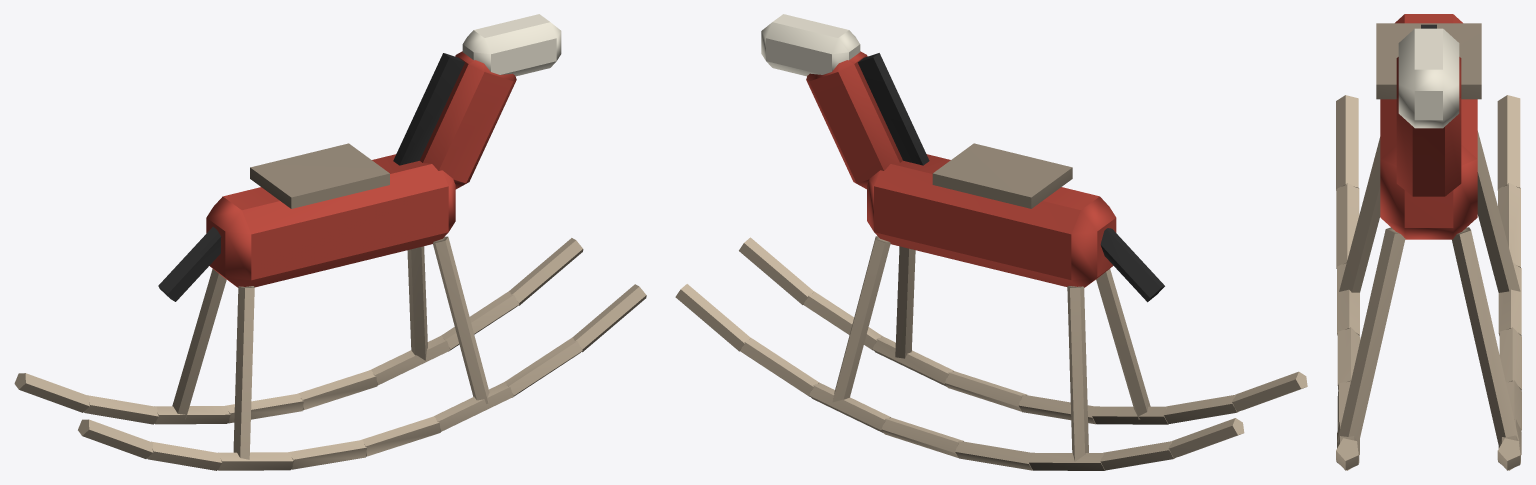
The model's file is rocking_horse.glb.
3 views of the same model, side by side, from view 1: azimuth 30°, elevation 25°; view 2: azimuth 150°, elevation 25°; view 3: azimuth 270°, elevation 25° (orthographic). The views are drawn at different scales.
Parts seen in each view (by area): view 1: static; view 2: static; view 3: static.
Boxes of the visible parts, left/top/right/bottom form: static: left=14, top=14, right=646, bottom=470; static: left=675, top=14, right=1307, bottom=470; static: left=1336, top=14, right=1521, bottom=470.
Size of the model in its own units: 1.03 by 0.6345 by 0.2299.
